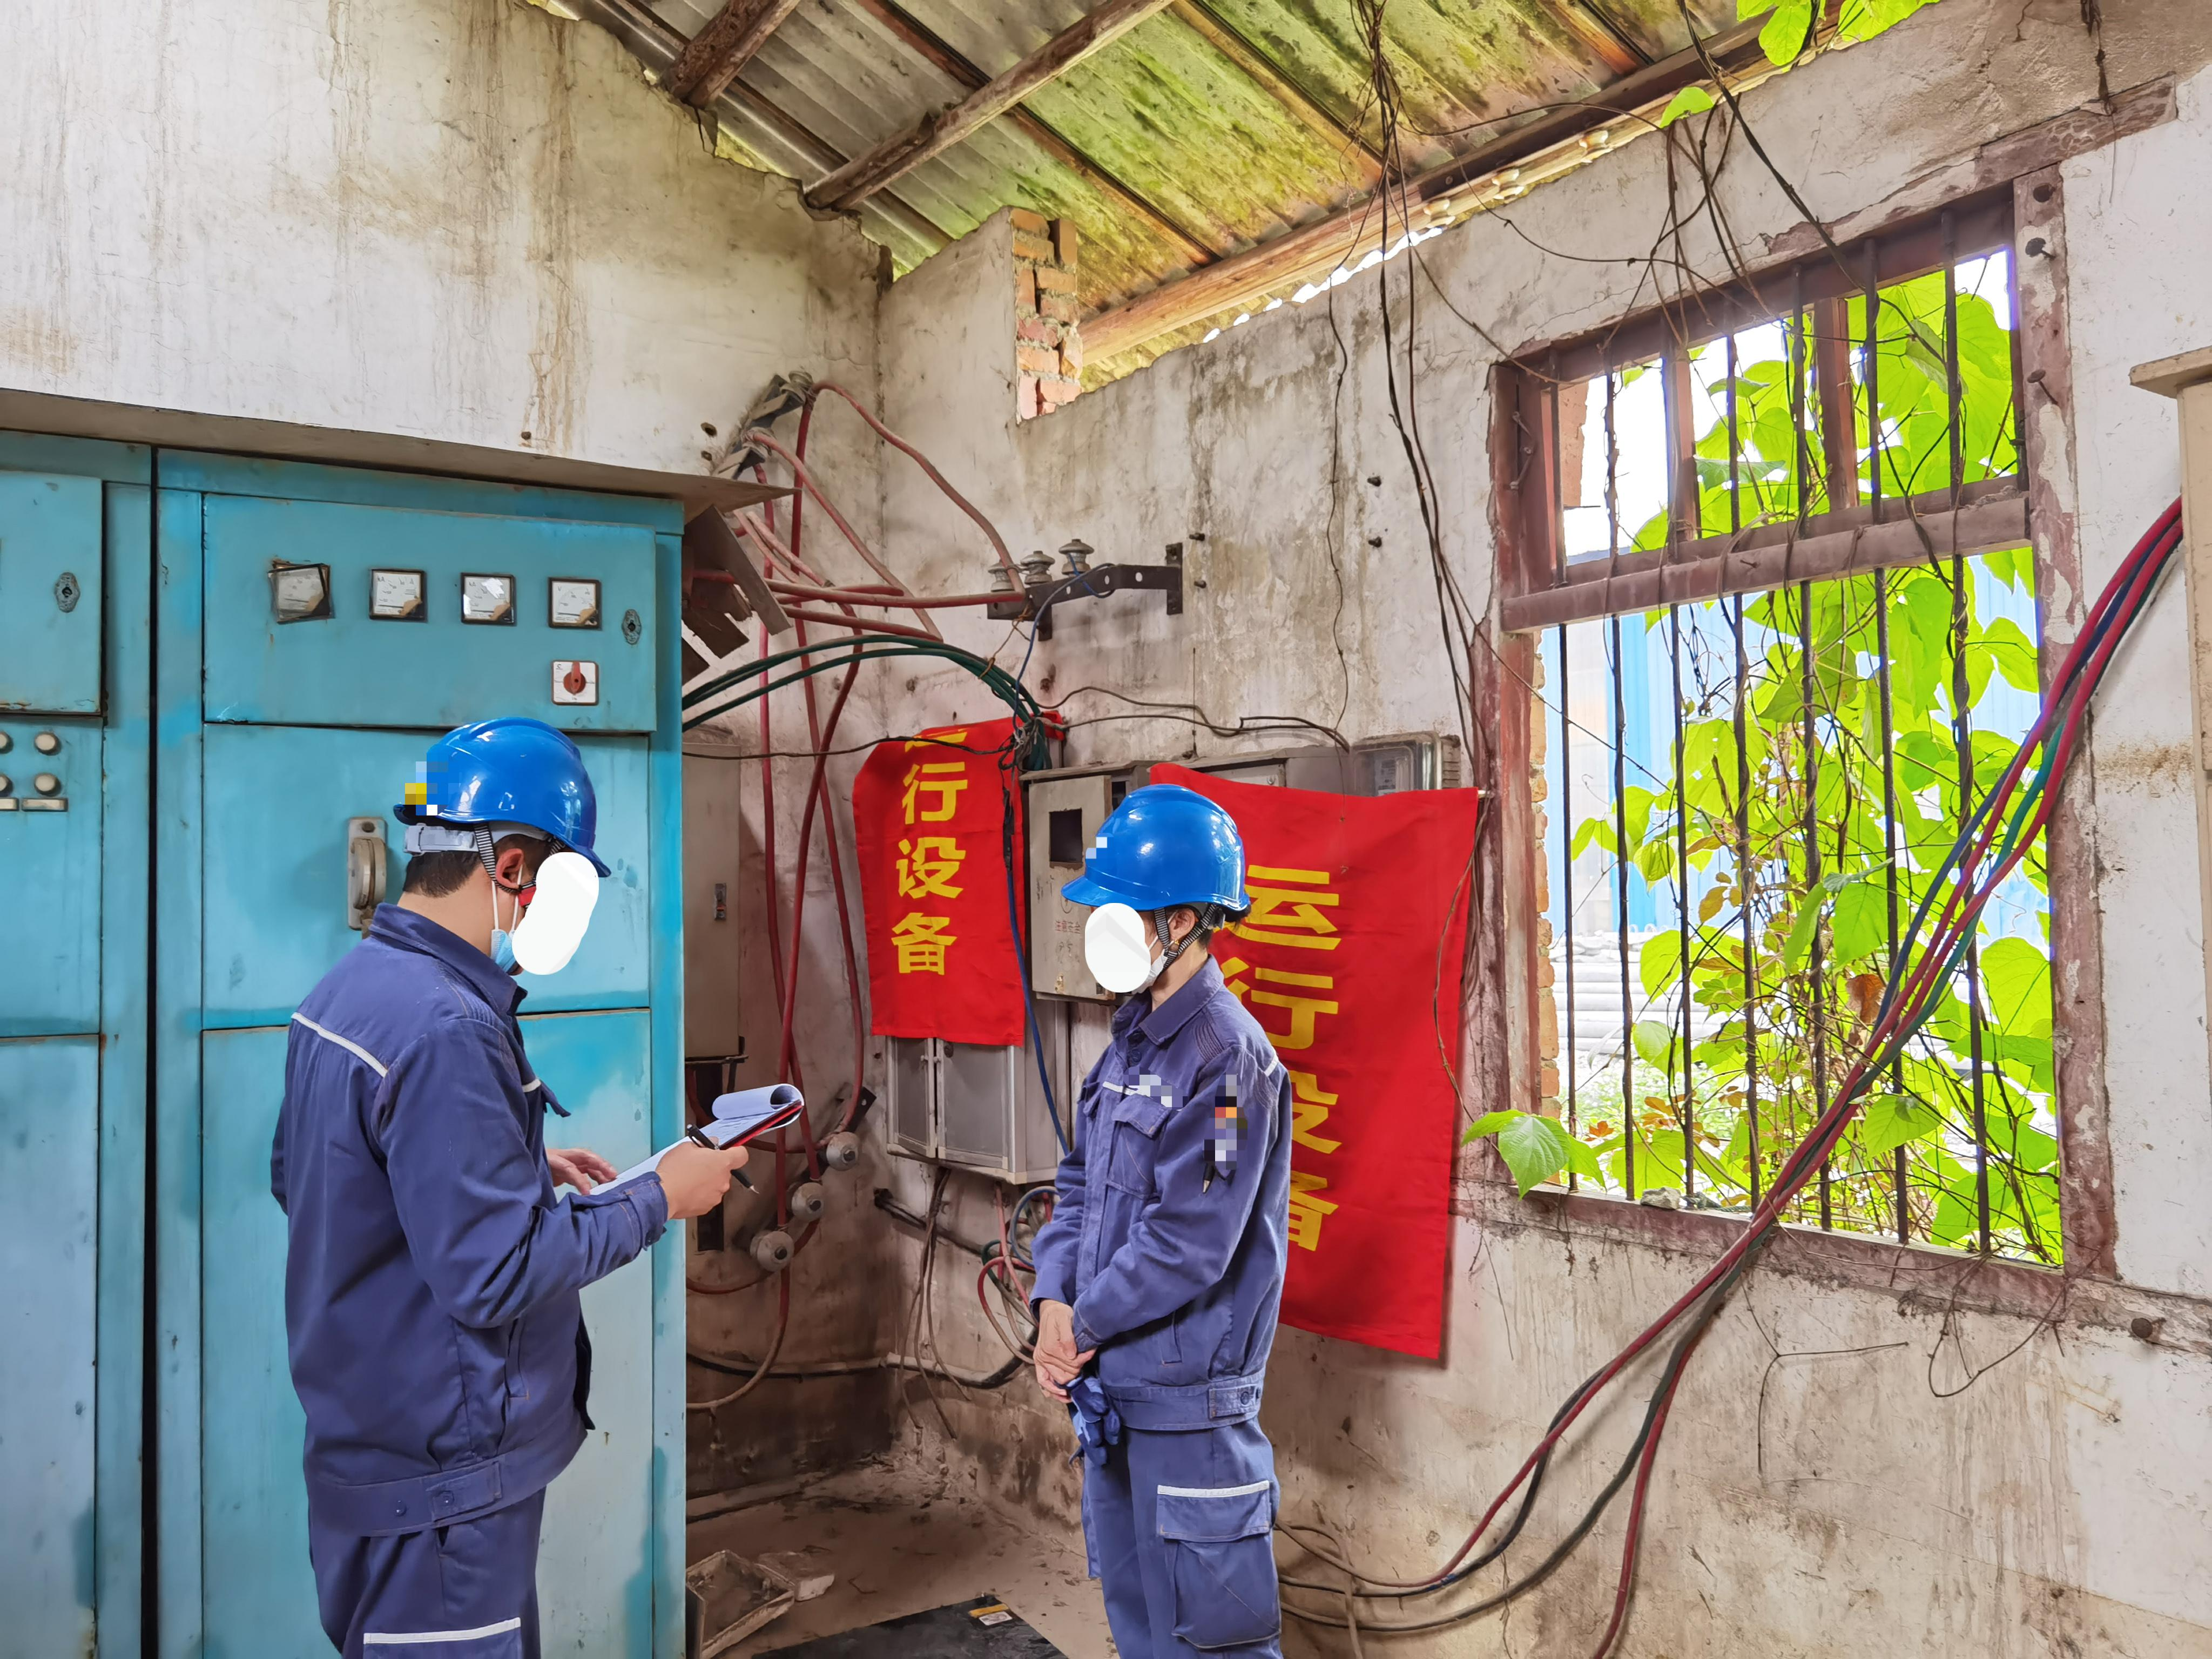halt: (385, 718, 615, 953), (1061, 788, 1252, 988)
inear: (474, 833, 556, 938), (1143, 904, 1217, 974)
